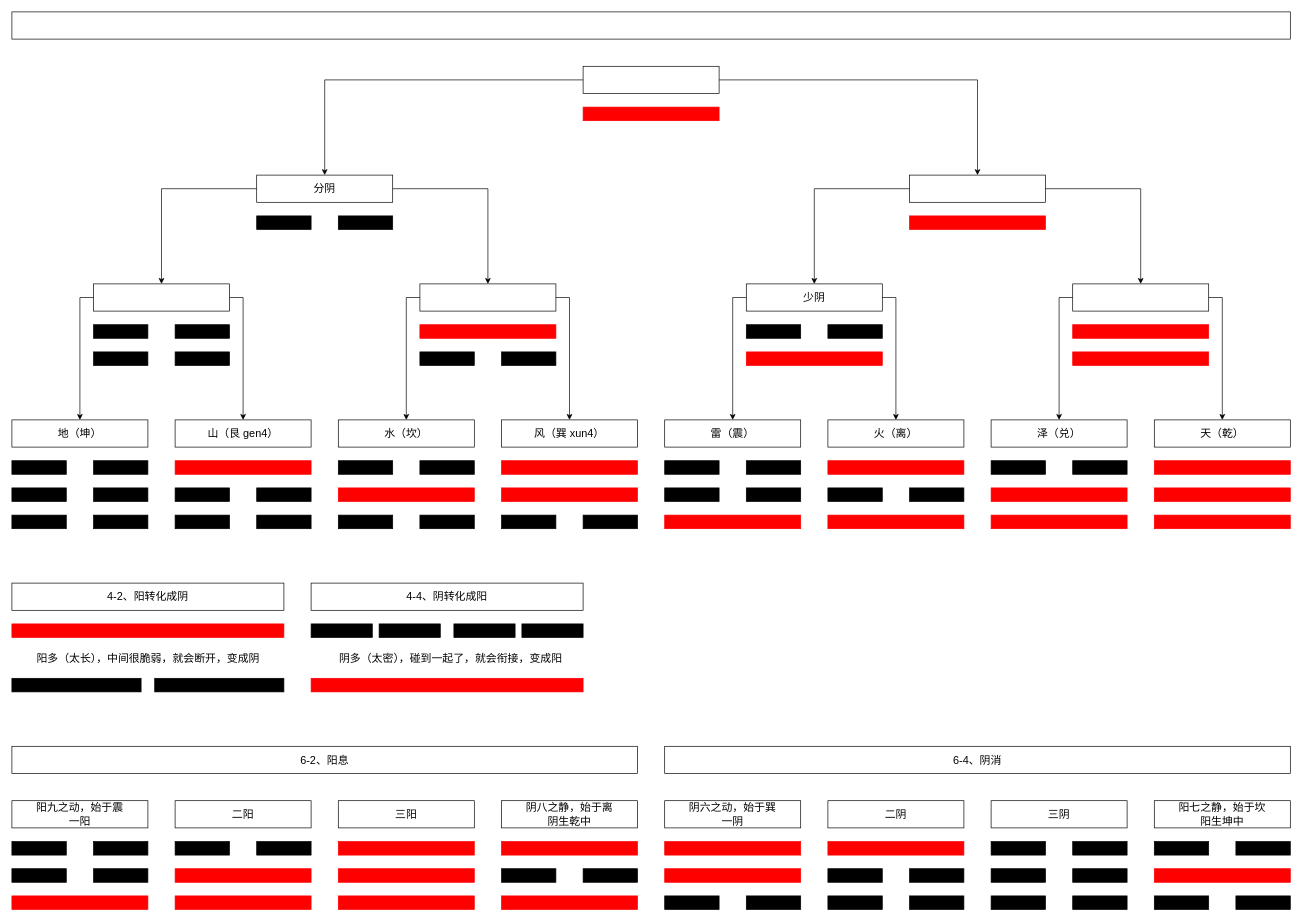
Some shapes in this 1302 by 921 pixel diagram are drawn without their labels. The shapes that lost their labels are listed below. From the top down, each one's box as (x1, y1, x2, y2) in pixels, then its label:
(11, 11, 1290, 39): 2-2、从一画开天到八卦
(582, 66, 719, 94): 一画开天
(909, 174, 1046, 202): 分阳
(93, 283, 230, 311): 老阴
(419, 283, 556, 311): 少阳
(1072, 283, 1209, 311): 老阳
